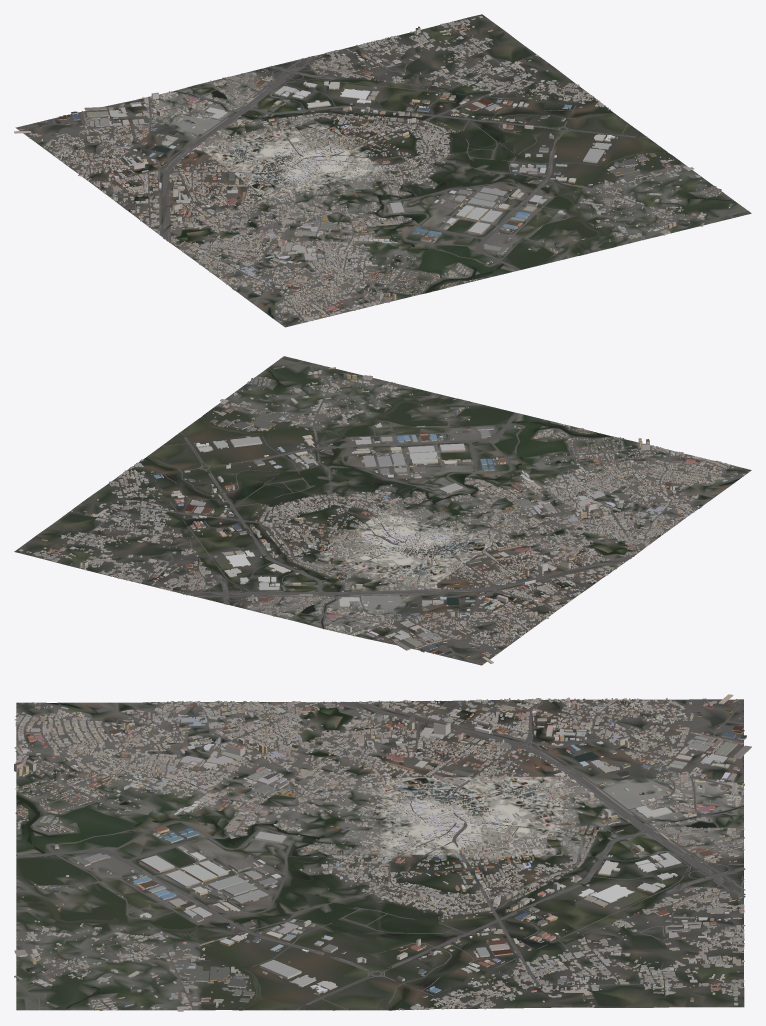
The picture shows the model from 3 angles, top to bottom: view 1: azimuth 30°, elevation 25°; view 2: azimuth 150°, elevation 25°; view 3: azimuth 270°, elevation 25°; orthographic projection. The views are drawn at different scales.
Parts seen in each view (by area): view 1: ground, buildings, roads, water; view 2: ground, buildings, roads, water; view 3: ground, buildings, roads, water.
Boxes of the visible parts, box(x1,y1,x2,y2) form: ground: box(15, 14, 751, 327); buildings: box(14, 16, 730, 322); roads: box(17, 23, 748, 323); water: box(152, 62, 733, 318); ground: box(14, 356, 751, 665); buildings: box(18, 366, 745, 663); roads: box(50, 358, 746, 664); water: box(144, 369, 739, 628); ground: box(16, 699, 744, 1010); buildings: box(14, 694, 751, 1011); roads: box(15, 699, 745, 1010); water: box(16, 703, 743, 1010).
Bounding box in the file's own units: 5705 × 109 × 5681.
